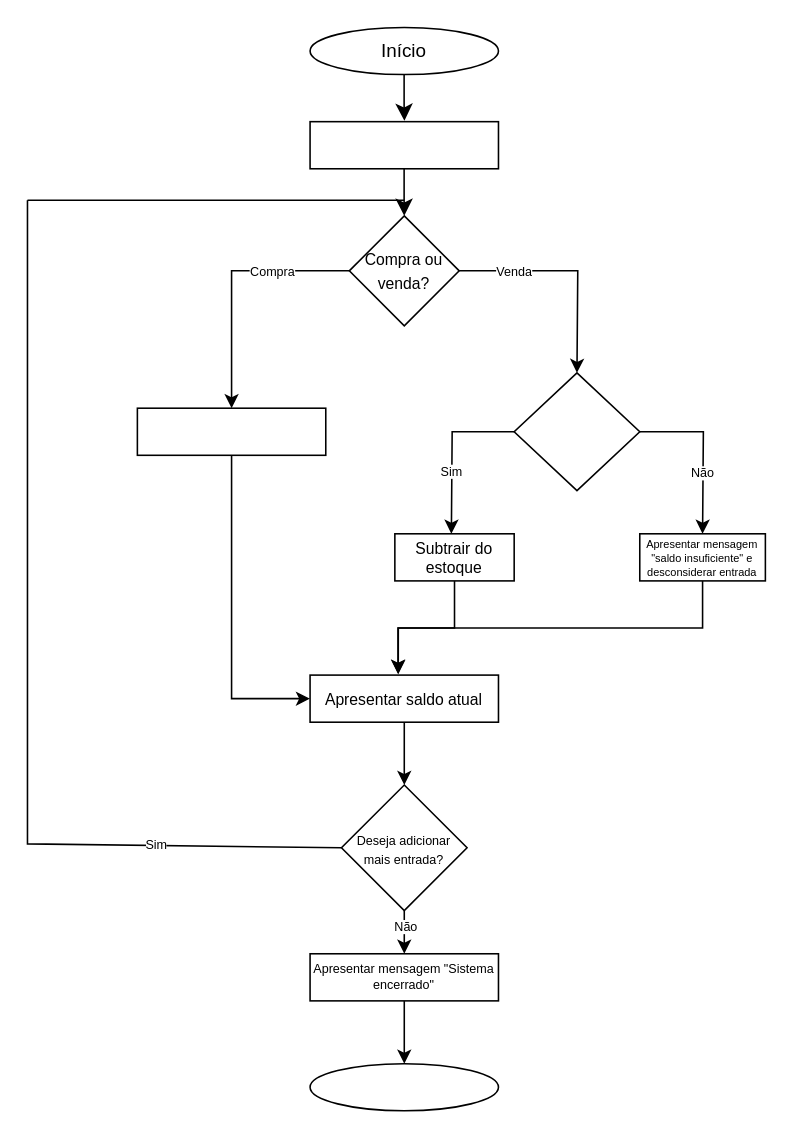
The diagram is 793 pixels wide and 1138 high, and some of its shapes have lost their labels. The box of each missing label's shape, as (x1, y1, x2, y2) in pixels:
Fim: (309, 1062, 498, 1111)
Perguntar o saldo inicial de peças: (309, 120, 498, 169)
Somar ao estoque: (136, 407, 326, 455)
É inferior ou igual ao estoque?: (513, 371, 640, 491)
